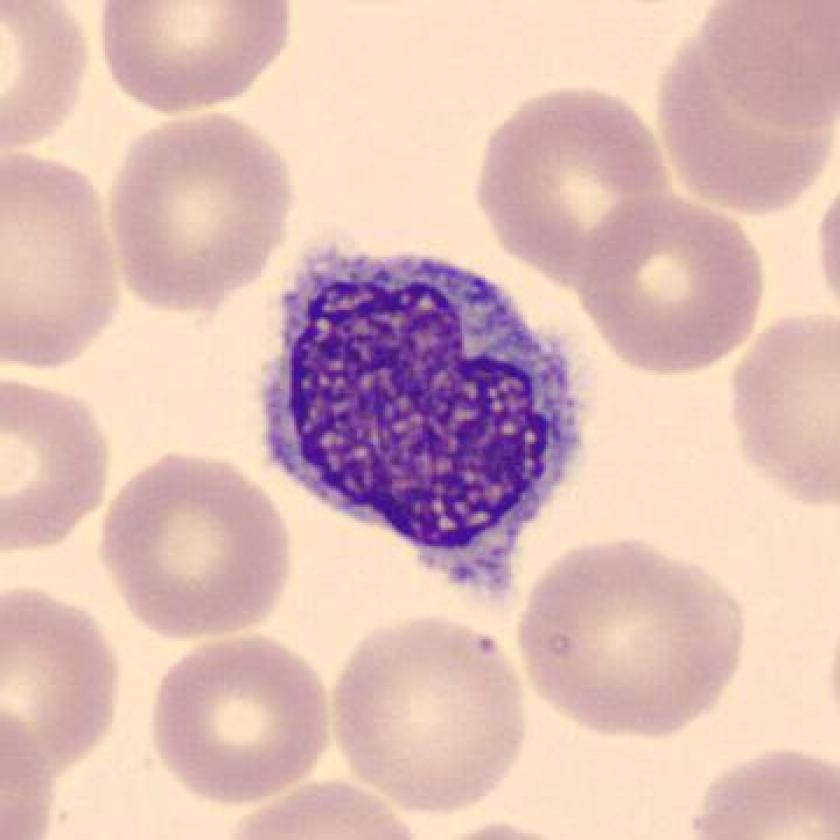monocyte: (232, 212, 622, 626)
